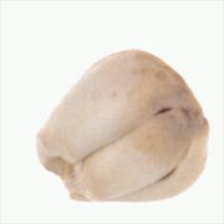L3: (34, 131, 90, 201)
L4: (34, 49, 209, 203)
